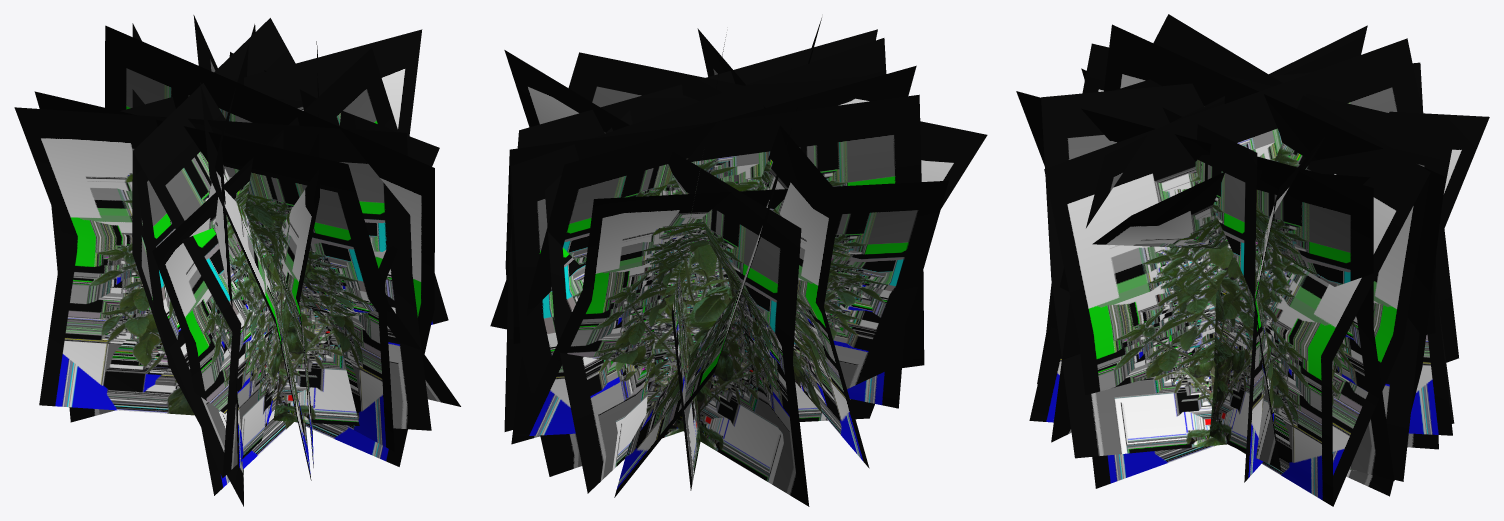
The model's file is bush001.fbx.
3 renders of one model, left to right at view 1: azimuth 30°, elevation 25°; view 2: azimuth 150°, elevation 25°; view 3: azimuth 270°, elevation 25°, orthographic. The views are drawn at different scales.
Parts seen in each view (by area): view 1: BushPlane10, BushPlane6, BushPlane2, BushPlane3, BushPlane13, BushPlane9, BushPlane11, BushPlane4, BushPlane1, BushPlane8, BushPlane5, BushPlane7; view 2: BushPlane5, BushPlane9, BushPlane7, BushPlane4, BushPlane10, BushPlane1, BushPlane11, BushPlane13, BushPlane8, BushPlane2, BushPlane3; view 3: BushPlane3, BushPlane6, BushPlane2, BushPlane8, BushPlane7, BushPlane13, BushPlane1, BushPlane11, BushPlane4, BushPlane5, BushPlane10, BushPlane9.
Part boxes in pixels (left/top/right/bottom): BushPlane10: left=14, top=107, right=431, bottom=430; BushPlane6: left=133, top=18, right=295, bottom=477; BushPlane2: left=34, top=91, right=460, bottom=406; BushPlane3: left=105, top=25, right=434, bottom=466; BushPlane13: left=152, top=48, right=398, bottom=495; BushPlane9: left=51, top=29, right=448, bottom=422; BushPlane11: left=229, top=52, right=439, bottom=451; BushPlane4: left=133, top=152, right=226, bottom=477; BushPlane1: left=193, top=15, right=311, bottom=480; BushPlane8: left=273, top=41, right=319, bottom=467; BushPlane5: left=132, top=23, right=243, bottom=506; BushPlane7: left=208, top=24, right=255, bottom=472; BushPlane5: left=514, top=180, right=948, bottom=436; BushPlane9: left=504, top=50, right=809, bottom=506; BushPlane7: left=511, top=38, right=886, bottom=476; BushPlane4: left=509, top=94, right=924, bottom=367; BushPlane10: left=697, top=28, right=869, bottom=468; BushPlane1: left=511, top=65, right=916, bottom=444; BushPlane11: left=545, top=110, right=651, bottom=493; BushPlane13: left=490, top=52, right=987, bottom=408; BushPlane8: left=504, top=29, right=877, bottom=431; BushPlane2: left=614, top=18, right=821, bottom=497; BushPlane3: left=671, top=34, right=726, bottom=490; BushPlane3: left=1044, top=38, right=1458, bottom=488; BushPlane6: left=1153, top=14, right=1430, bottom=506; BushPlane2: left=1041, top=62, right=1454, bottom=458; BushPlane8: left=1016, top=91, right=1394, bottom=480; BushPlane7: left=1104, top=24, right=1445, bottom=496; BushPlane13: left=1081, top=68, right=1280, bottom=469; BushPlane1: left=1046, top=43, right=1455, bottom=481; BushPlane11: left=1029, top=169, right=1438, bottom=449; BushPlane4: left=1332, top=173, right=1430, bottom=506; BushPlane5: left=1389, top=111, right=1489, bottom=435; BushPlane10: left=1051, top=25, right=1367, bottom=442; BushPlane9: left=1244, top=137, right=1324, bottom=482.
Bounding box in the file's own units: 110 × 103 × 115.
